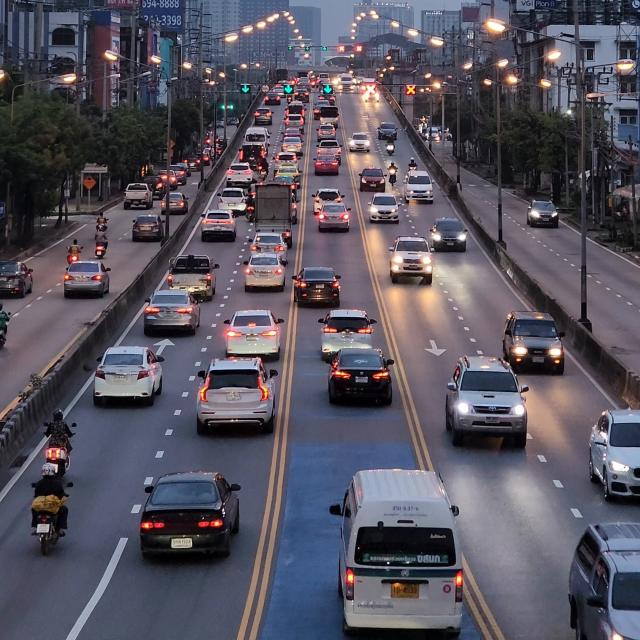Car: (331, 468, 471, 637), (144, 470, 244, 562), (446, 354, 530, 446), (196, 362, 280, 434), (586, 408, 640, 503), (95, 342, 163, 410), (325, 347, 395, 409), (504, 310, 568, 372), (317, 308, 377, 360), (222, 311, 286, 359), (143, 290, 201, 335), (392, 238, 435, 288), (171, 252, 218, 296), (293, 266, 339, 309), (64, 260, 112, 300), (244, 255, 288, 292), (429, 217, 469, 254)
